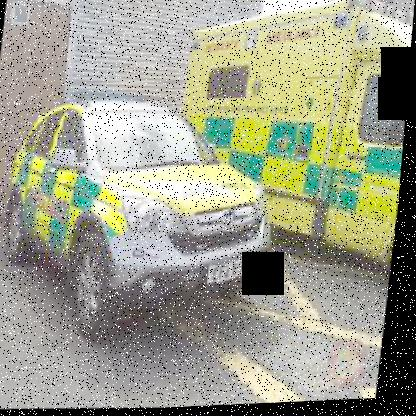emergency: (0, 72, 298, 355), (159, 0, 414, 299)
